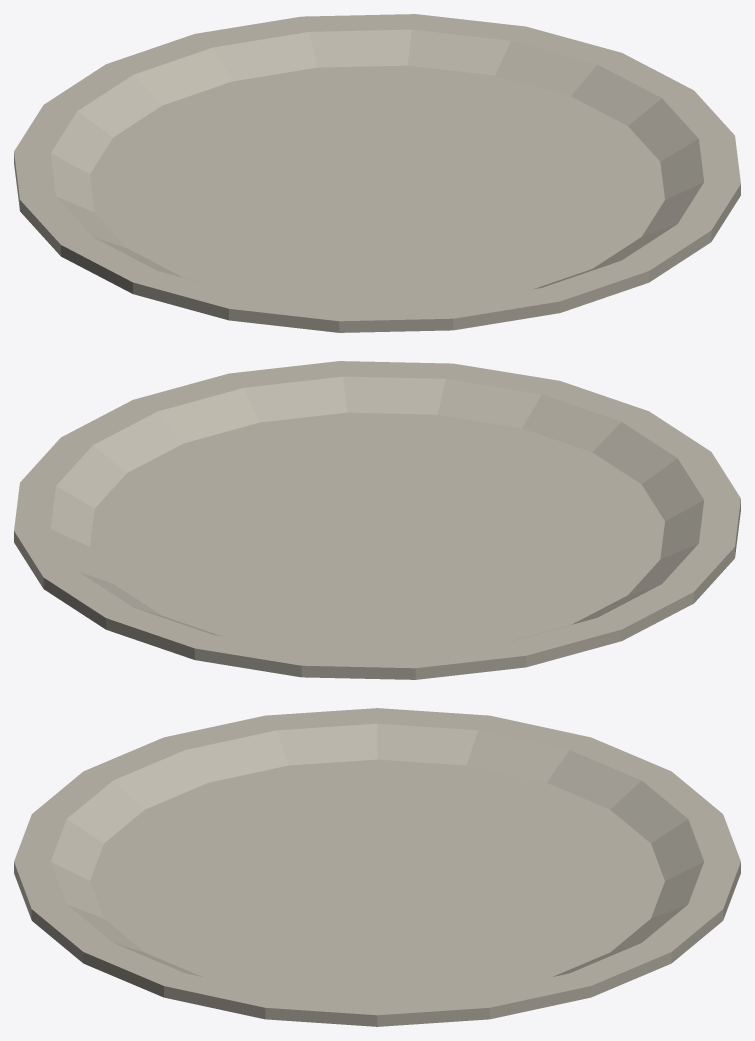
Rendered from food_plate.fbx.
3 renders of one model, top to bottom at view 1: azimuth 30°, elevation 25°; view 2: azimuth 150°, elevation 25°; view 3: azimuth 270°, elevation 25°, orthographic.
Visible parts, largest first — view 1: polySurface135; view 2: polySurface135; view 3: polySurface135.
Part boxes in pixels (x1,y1,x2,y2): polySurface135: [14, 14, 740, 332]; polySurface135: [14, 361, 740, 679]; polySurface135: [14, 708, 740, 1026].
Size of the model in its own units: 193 by 9.08 by 193.
1 material, 1 textured.
